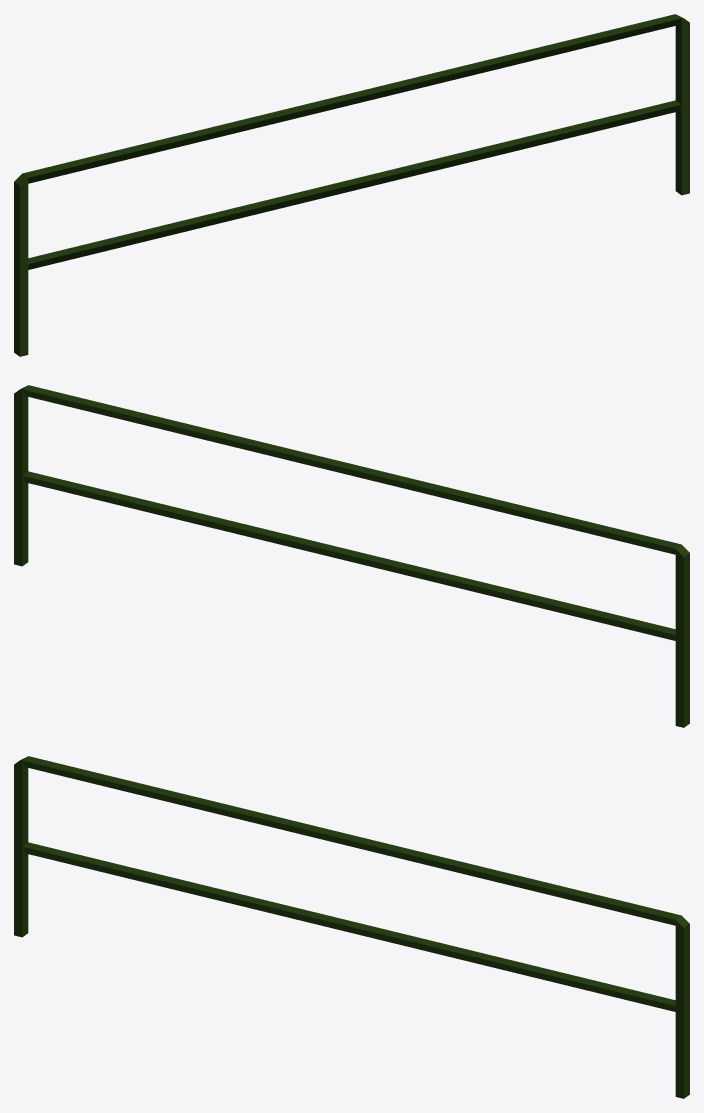
The model's file is Prop_Fence_A.fbx.
3 renders of one model, top to bottom at view 1: azimuth 30°, elevation 25°; view 2: azimuth 150°, elevation 25°; view 3: azimuth 330°, elevation 25°, orthographic.
Visible parts, largest first — view 1: Prop_Fence_A; view 2: Prop_Fence_A; view 3: Prop_Fence_A.
Boxes of the visible parts, box(x1,y1,x2,y2) form: Prop_Fence_A: box(14, 14, 689, 356); Prop_Fence_A: box(14, 385, 689, 727); Prop_Fence_A: box(14, 756, 689, 1098).
Bounding box in the file's own units: 400 × 101 × 6.21.
